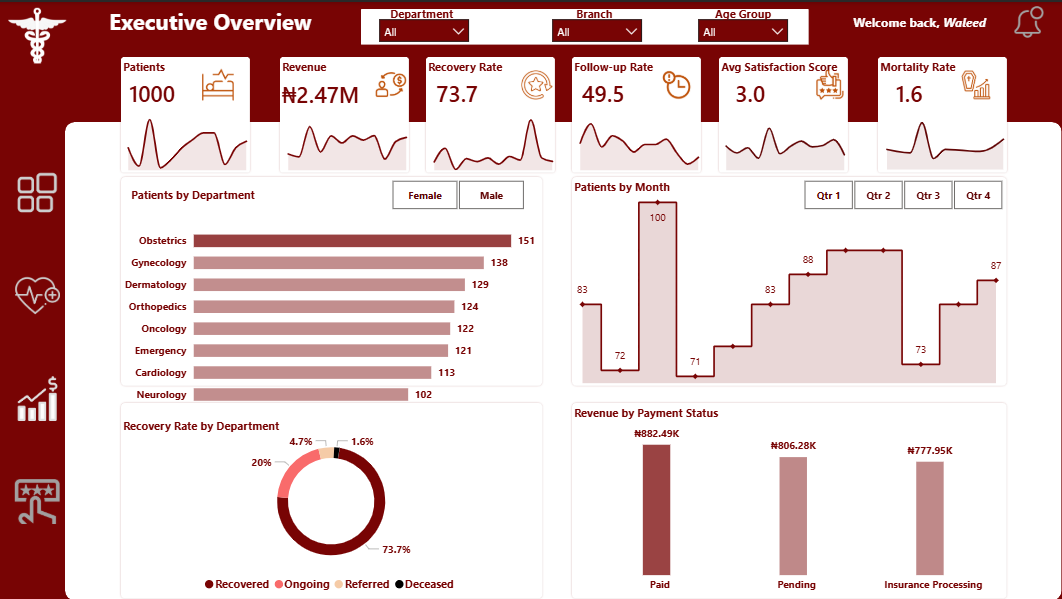

The page's visual inventory and layout, read from the dashboard file:
{"tool":"powerbi","page":{"name":"Executive Overview","canvas":[1280,720],"ordinal":1},"visuals":[{"type":"shape","box":[80,144,1200,576],"z":0},{"type":"shape","box":[864,64,160,144],"z":1000},{"type":"shape","box":[433,6,544,48],"z":2000},{"type":"shape","box":[144,208,512,256],"z":3000},{"type":"shape","box":[688,480,528,240],"z":4000},{"type":"shape","box":[688,208,528,256],"z":5000},{"type":"shape","box":[144,480,512,240],"z":6000},{"type":"barChart","fields":{"Category":["healthcare_dataset_1000_rows.Hospital Department"],"Y":["_Measures.Total Patients"]},"box":[144,256,512,240],"z":7000},{"type":"lineChart","fields":{"Y":["_Measures.Total Patients"],"Category":["DateTable.Month Number"]},"box":[688,224,528,240],"z":8000},{"type":"donutChart","fields":{"Category":["healthcare_dataset_1000_rows.Outcome"],"Y":["_Measures.Total Patients"]},"box":[224,512,352,208],"z":9000},{"type":"slicer","fields":{"Values":["DateTable.Month Name"]},"box":[448,10.8,128,48],"z":10000},{"type":"slicer","fields":{"Values":["healthcare_dataset_1000_rows.Insurance Type"]},"box":[656,10.8,128,48],"z":11000},{"type":"slicer","fields":{"Values":["healthcare_dataset_1000_rows.Age Group"]},"box":[832,10.8,128,48],"z":12000},{"type":"textbox","box":[832,0,128,32],"z":13000},{"type":"textbox","box":[689.5,0,64,32],"z":14000},{"type":"textbox","box":[465.5,0,96,32],"z":15000},{"type":"columnChart","fields":{"Category":["healthcare_dataset_1000_rows.Payment Status"],"Y":["_Measures.Total Revenue"]},"box":[704,496,512,224],"z":16000},{"type":"textbox","box":[154,218,208,32],"z":17000},{"type":"textbox","box":[688,208,208,32],"z":18000},{"type":"textbox","box":[144,496,208,32],"z":19000},{"type":"shape","box":[144,64,160,144],"z":20000},{"type":"card","fields":{"Values":["_Measures.Total Patients"]},"box":[144,80,80,64],"z":21000},{"type":"lineChart","fields":{"Y":["_Measures.Total Patients"],"Category":["DateTable.Month Number"]},"box":[128,128,224,80],"z":22000},{"type":"textbox","box":[144,64,64,32],"z":23000},{"type":"shape","box":[336,64,160,144],"z":24000},{"type":"lineChart","fields":{"Category":["DateTable.Month Number"],"Y":["_Measures.Total Revenue"]},"box":[320,128,224,80],"z":25000},{"type":"card","fields":{"Values":["_Measures.Total Revenue"]},"box":[331.6,96,112,32],"z":26000},{"type":"shape","box":[512,64,160,144],"z":27000},{"type":"textbox","box":[512,64,112,32],"z":28000},{"type":"lineChart","fields":{"Category":["DateTable.Month Number"],"Y":["_Measures.Recovery Rate %"]},"box":[496,128,224,80],"z":29000},{"type":"card","fields":{"Values":["_Measures.Recovery Rate %"]},"box":[512,80,80,64],"z":30000},{"type":"textbox","box":[336,64,64,32],"z":31000},{"type":"shape","box":[688,64,160,144],"z":32000},{"type":"card","fields":{"Values":["_Measures.Follow-Up Rate %"]},"box":[688,80,80,64],"z":33000},{"type":"textbox","box":[688,64,112,32],"z":34000},{"type":"lineChart","fields":{"Category":["DateTable.Month Number"],"Y":["_Measures.Follow-Up Rate %"]},"box":[672,128,224,80],"z":35000},{"type":"textbox","box":[864,64,160,32],"z":36000},{"type":"card","fields":{"Values":["_Measures.Avg Satisfaction Score"]},"box":[864,80,80,64],"z":37000},{"type":"lineChart","fields":{"Category":["DateTable.Month Number"],"Y":["_Measures.Avg Satisfaction Score"]},"box":[848,128,224,80],"z":38000},{"type":"shape","box":[1056,64,160,144],"z":39000},{"type":"textbox","box":[1056,64,112,32],"z":40000},{"type":"card","fields":{"Values":["_Measures.Mortality Rate %"]},"box":[1056,80,80,64],"z":41000},{"type":"lineChart","fields":{"Category":["DateTable.Month Number"],"Y":["_Measures.Mortality Rate %"]},"box":[1040,128,240,80],"z":42000},{"type":"slicer","fields":{"Values":["healthcare_dataset_1000_rows.Patient Gender"]},"box":[448,208,208,48],"z":43000},{"type":"textbox","box":[688,480,208,32],"z":44000},{"type":"slicer","fields":{"Values":["healthcare_dataset_1000_rows.Discharge Date.Variation.Date Hierarchy.Quarter"]},"box":[944,208,288,48],"z":45000},{"type":"textbox","box":[128,0,256,48],"z":46000},{"type":"image","box":[1152,75.8,48,48],"z":47000},{"type":"image","box":[976,75.8,48,48],"z":48000},{"type":"image","box":[624,75.8,48,48],"z":49000},{"type":"image","box":[240,67.8,48,64],"z":50000},{"type":"image","box":[448,67.8,48,64],"z":51000},{"type":"image","box":[784,75.8,64,48],"z":52000},{"type":"image","box":[6.4,198,80,64],"z":53000},{"type":"image","box":[14.4,322,64,64],"z":54000},{"type":"image","box":[14.4,446,64,64],"z":55000},{"type":"image","box":[6.4,570,80,64],"z":56000},{"type":"image","box":[6.4,0,80,80],"z":57000},{"type":"image","box":[1216,0,48,48],"z":58000},{"type":"textbox","box":[1024,10,176,32],"z":59000}]}

Visuals, with their boxes on the page's 1280x720 design canvas (x1, y1, x2, y2). These are canvas units, not pixel positions in the 1062x599 screenshot, which may show the page scaled, cropped or inside an application window:
shape: {"x1": 80, "y1": 144, "x2": 1280, "y2": 720}
shape: {"x1": 864, "y1": 64, "x2": 1024, "y2": 208}
shape: {"x1": 433, "y1": 6, "x2": 977, "y2": 54}
shape: {"x1": 144, "y1": 208, "x2": 656, "y2": 464}
shape: {"x1": 688, "y1": 480, "x2": 1216, "y2": 720}
shape: {"x1": 688, "y1": 208, "x2": 1216, "y2": 464}
shape: {"x1": 144, "y1": 480, "x2": 656, "y2": 720}
barChart - healthcare_dataset_1000_rows.Hospital Department x _Measures.Total Patients: {"x1": 144, "y1": 256, "x2": 656, "y2": 496}
lineChart - _Measures.Total Patients x DateTable.Month Number: {"x1": 688, "y1": 224, "x2": 1216, "y2": 464}
donutChart - healthcare_dataset_1000_rows.Outcome x _Measures.Total Patients: {"x1": 224, "y1": 512, "x2": 576, "y2": 720}
slicer - DateTable.Month Name: {"x1": 448, "y1": 11, "x2": 576, "y2": 59}
slicer - healthcare_dataset_1000_rows.Insurance Type: {"x1": 656, "y1": 11, "x2": 784, "y2": 59}
slicer - healthcare_dataset_1000_rows.Age Group: {"x1": 832, "y1": 11, "x2": 960, "y2": 59}
textbox: {"x1": 832, "y1": 0, "x2": 960, "y2": 32}
textbox: {"x1": 690, "y1": 0, "x2": 754, "y2": 32}
textbox: {"x1": 466, "y1": 0, "x2": 562, "y2": 32}
columnChart - healthcare_dataset_1000_rows.Payment Status x _Measures.Total Revenue: {"x1": 704, "y1": 496, "x2": 1216, "y2": 720}
textbox: {"x1": 154, "y1": 218, "x2": 362, "y2": 250}
textbox: {"x1": 688, "y1": 208, "x2": 896, "y2": 240}
textbox: {"x1": 144, "y1": 496, "x2": 352, "y2": 528}
shape: {"x1": 144, "y1": 64, "x2": 304, "y2": 208}
card - _Measures.Total Patients: {"x1": 144, "y1": 80, "x2": 224, "y2": 144}
lineChart - _Measures.Total Patients x DateTable.Month Number: {"x1": 128, "y1": 128, "x2": 352, "y2": 208}
textbox: {"x1": 144, "y1": 64, "x2": 208, "y2": 96}
shape: {"x1": 336, "y1": 64, "x2": 496, "y2": 208}
lineChart - DateTable.Month Number x _Measures.Total Revenue: {"x1": 320, "y1": 128, "x2": 544, "y2": 208}
card - _Measures.Total Revenue: {"x1": 332, "y1": 96, "x2": 444, "y2": 128}
shape: {"x1": 512, "y1": 64, "x2": 672, "y2": 208}
textbox: {"x1": 512, "y1": 64, "x2": 624, "y2": 96}
lineChart - DateTable.Month Number x _Measures.Recovery Rate %: {"x1": 496, "y1": 128, "x2": 720, "y2": 208}
card - _Measures.Recovery Rate %: {"x1": 512, "y1": 80, "x2": 592, "y2": 144}
textbox: {"x1": 336, "y1": 64, "x2": 400, "y2": 96}
shape: {"x1": 688, "y1": 64, "x2": 848, "y2": 208}
card - _Measures.Follow-Up Rate %: {"x1": 688, "y1": 80, "x2": 768, "y2": 144}
textbox: {"x1": 688, "y1": 64, "x2": 800, "y2": 96}
lineChart - DateTable.Month Number x _Measures.Follow-Up Rate %: {"x1": 672, "y1": 128, "x2": 896, "y2": 208}
textbox: {"x1": 864, "y1": 64, "x2": 1024, "y2": 96}
card - _Measures.Avg Satisfaction Score: {"x1": 864, "y1": 80, "x2": 944, "y2": 144}
lineChart - DateTable.Month Number x _Measures.Avg Satisfaction Score: {"x1": 848, "y1": 128, "x2": 1072, "y2": 208}
shape: {"x1": 1056, "y1": 64, "x2": 1216, "y2": 208}
textbox: {"x1": 1056, "y1": 64, "x2": 1168, "y2": 96}
card - _Measures.Mortality Rate %: {"x1": 1056, "y1": 80, "x2": 1136, "y2": 144}
lineChart - DateTable.Month Number x _Measures.Mortality Rate %: {"x1": 1040, "y1": 128, "x2": 1280, "y2": 208}
slicer - healthcare_dataset_1000_rows.Patient Gender: {"x1": 448, "y1": 208, "x2": 656, "y2": 256}
textbox: {"x1": 688, "y1": 480, "x2": 896, "y2": 512}
slicer - healthcare_dataset_1000_rows.Discharge Date.Variation.Date Hierarchy.Quarter: {"x1": 944, "y1": 208, "x2": 1232, "y2": 256}
textbox: {"x1": 128, "y1": 0, "x2": 384, "y2": 48}
image: {"x1": 1152, "y1": 76, "x2": 1200, "y2": 124}
image: {"x1": 976, "y1": 76, "x2": 1024, "y2": 124}
image: {"x1": 624, "y1": 76, "x2": 672, "y2": 124}
image: {"x1": 240, "y1": 68, "x2": 288, "y2": 132}
image: {"x1": 448, "y1": 68, "x2": 496, "y2": 132}
image: {"x1": 784, "y1": 76, "x2": 848, "y2": 124}
image: {"x1": 6, "y1": 198, "x2": 86, "y2": 262}
image: {"x1": 14, "y1": 322, "x2": 78, "y2": 386}
image: {"x1": 14, "y1": 446, "x2": 78, "y2": 510}
image: {"x1": 6, "y1": 570, "x2": 86, "y2": 634}
image: {"x1": 6, "y1": 0, "x2": 86, "y2": 80}
image: {"x1": 1216, "y1": 0, "x2": 1264, "y2": 48}
textbox: {"x1": 1024, "y1": 10, "x2": 1200, "y2": 42}
